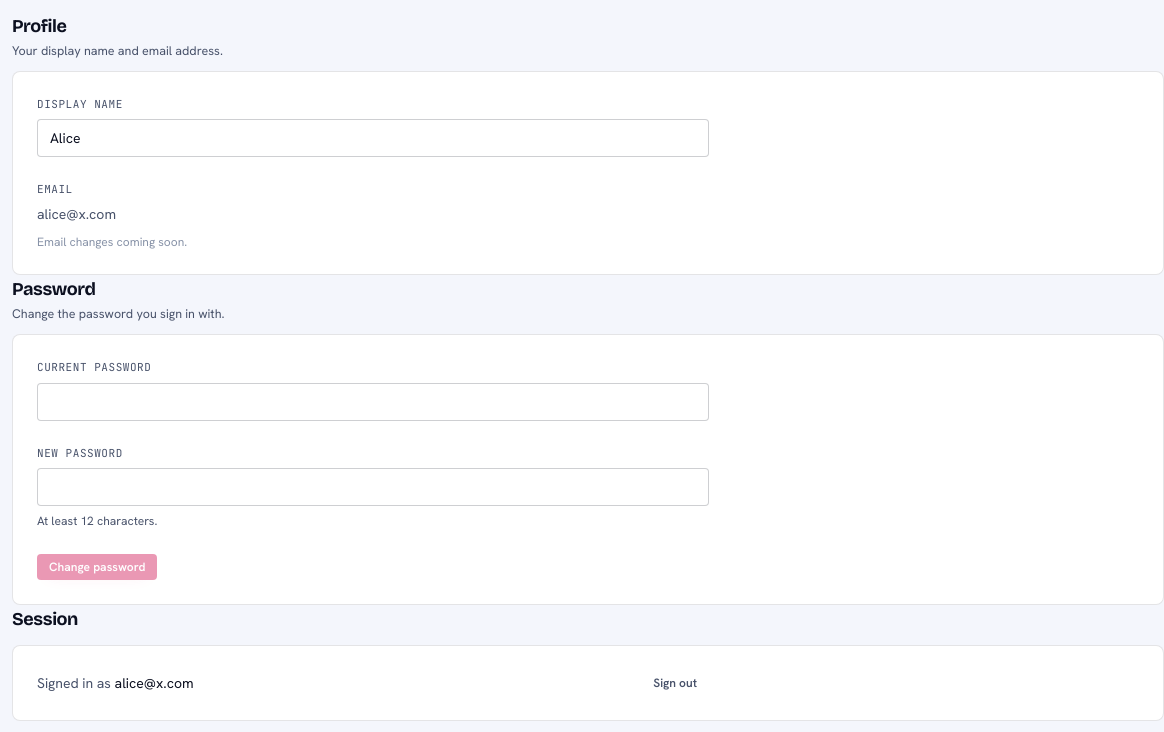
it: Account/Profile — password › changes the password through the server endpoint
The image size is (1164, 732).
Type "old-password" into the password field labelled "Current password" at (373, 402), box [37,382,709,420]
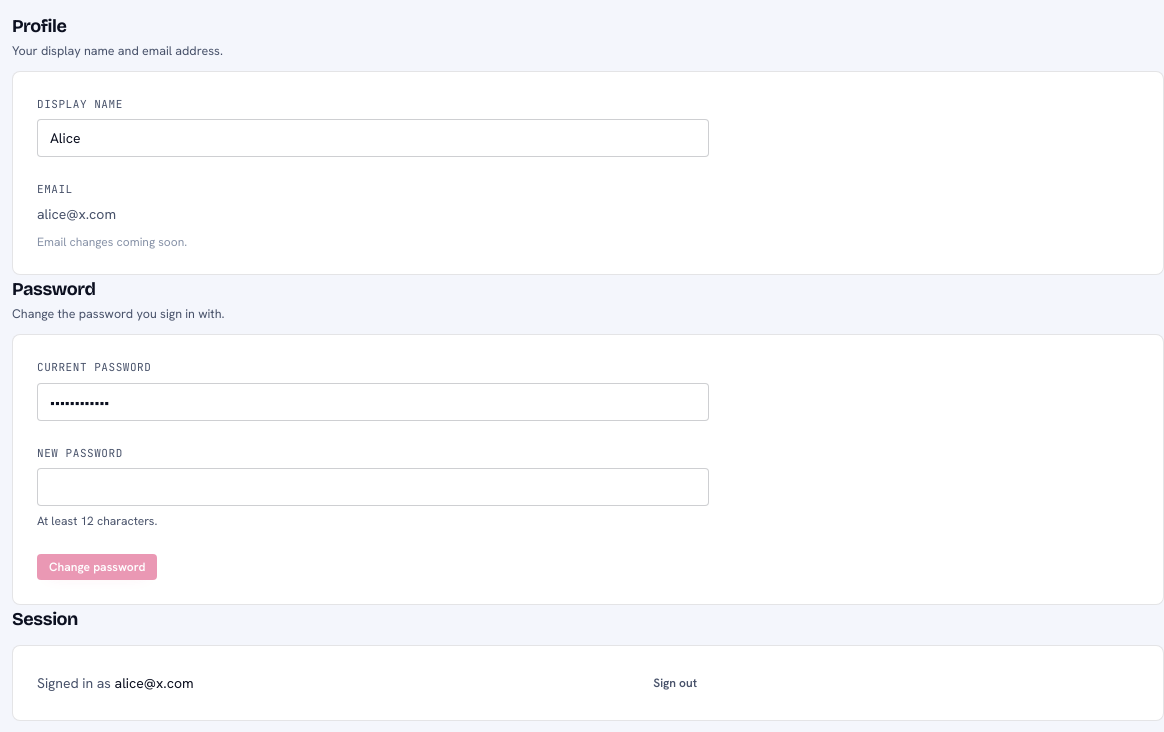
Type "a-much-longer-password" into the password field named "new password" at (373, 487), box [37,468,709,506]
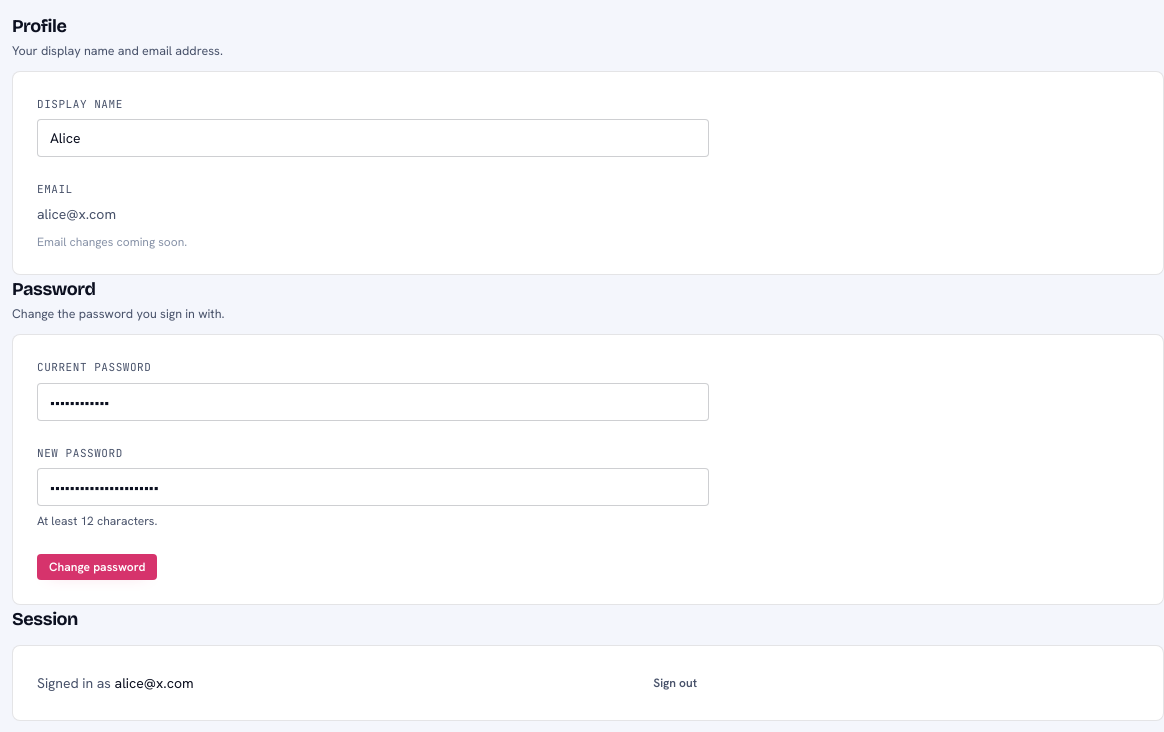
Click the button "Change password" at (97, 567), box [37,554,157,580]
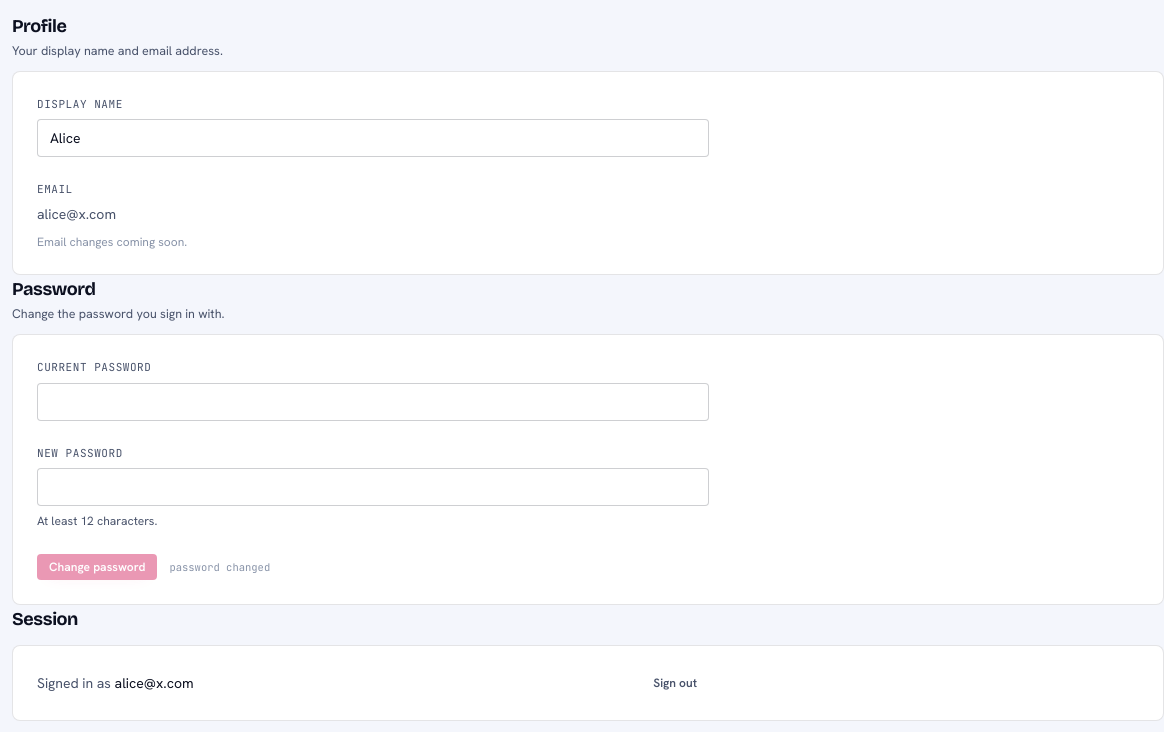
expect the text "password changed" is shown: met, box [169,559,270,575]
expect the password field labelled "Current password" is empty: met, box [37,382,709,420]
